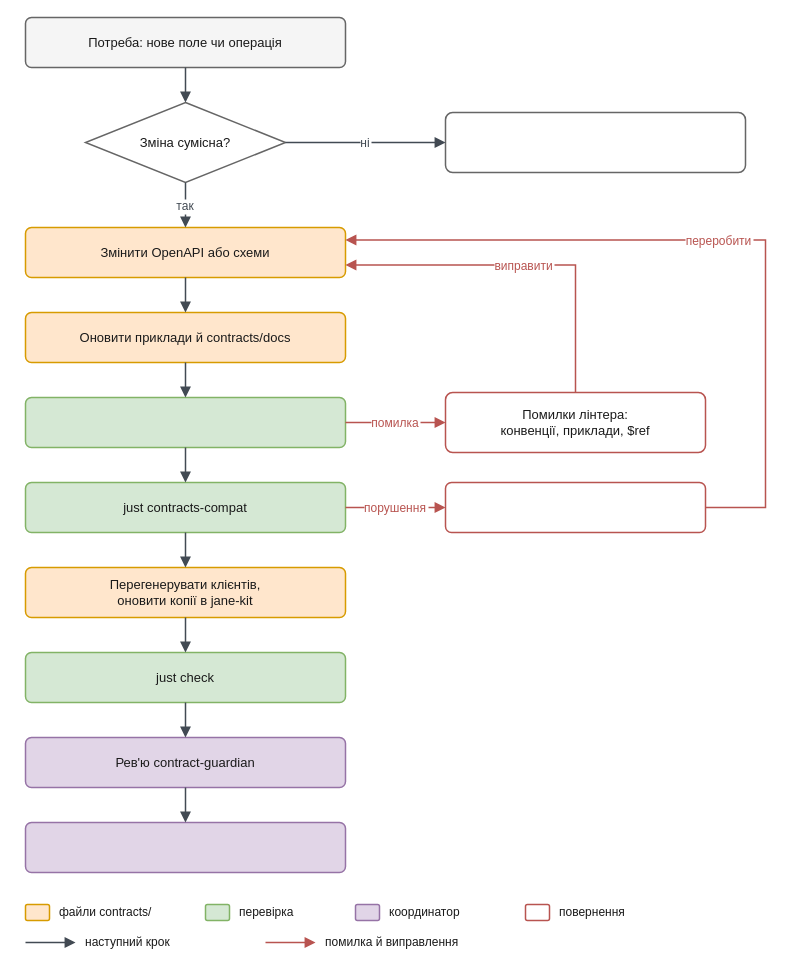
The diagram is 793 pixels wide and 970 high, and some of its shapes have lost their labels. Here are the shapes that lost their labels. From the top down, the centre of each, then its label:
At point 595,142: "/v2 поруч із /v1 або узгоджене оновлення всіх споживачів".
At point 185,422: "just contracts-check".
At point 575,507: "BREAKING у compat.py".
At point 185,847: "Злиття координатором".
